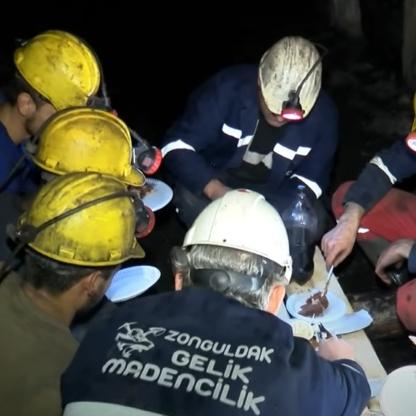helmet: (169, 182, 304, 355), (12, 172, 150, 328), (5, 19, 99, 139), (249, 29, 329, 131)
